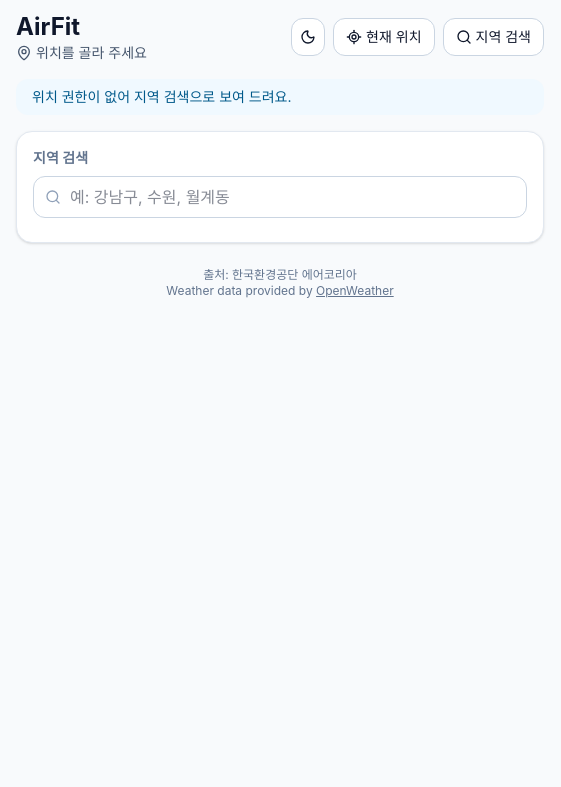
Test case: falls back to region search when location is denied
Expected: the text "위치 권한이 없어 지역 검색으로 보여 드려요." is shown, [16,79,544,115]
Type "강남" into the dropdown labelled "지역 검색" at (280, 197), box [33,176,527,218]
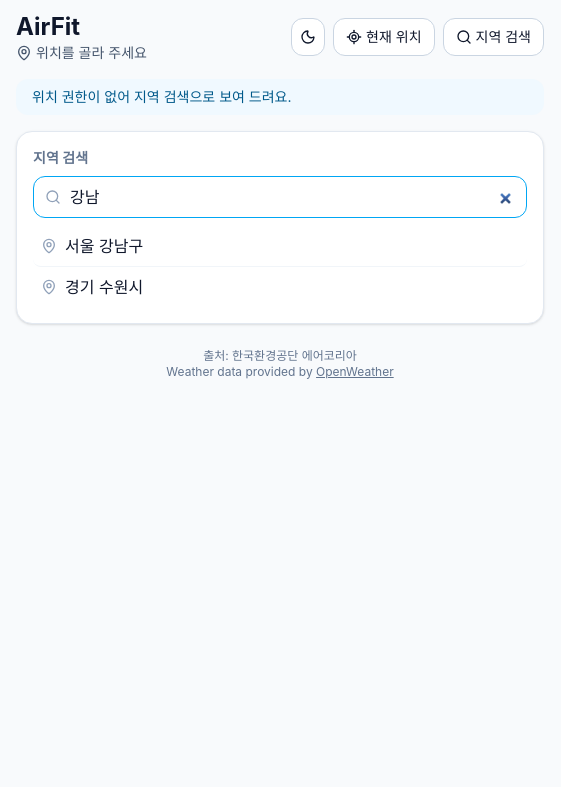
Click the option "서울 강남구" at (104, 246), box [33,226,527,267]
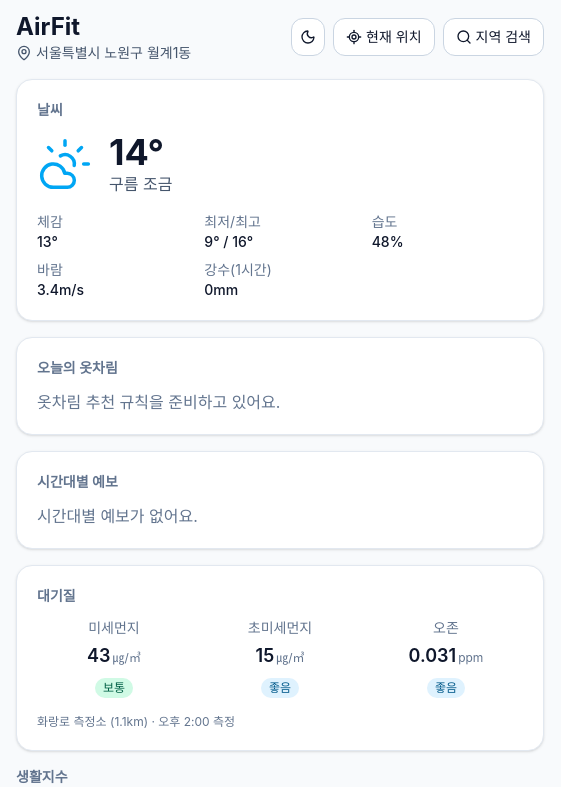
Result: the element "날씨" is shown at [16,79,544,321]
